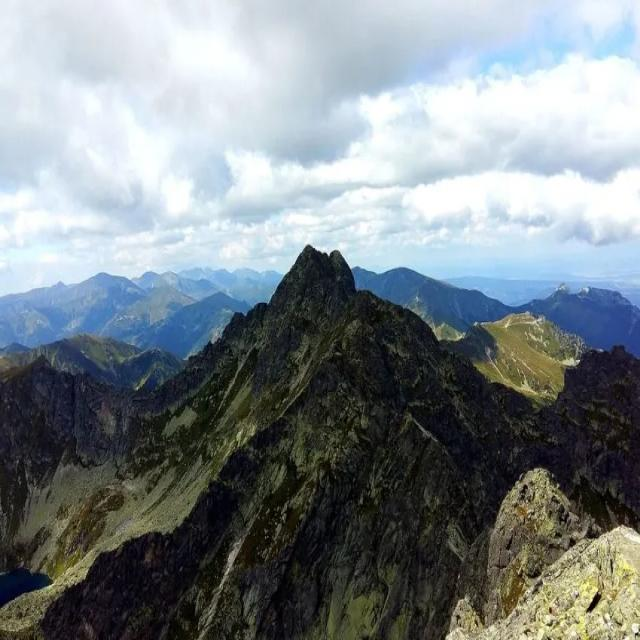Giewont: (542, 262, 585, 311)
Kasprowy Wierch: (495, 278, 561, 349)
Swinica: (232, 171, 388, 319)
